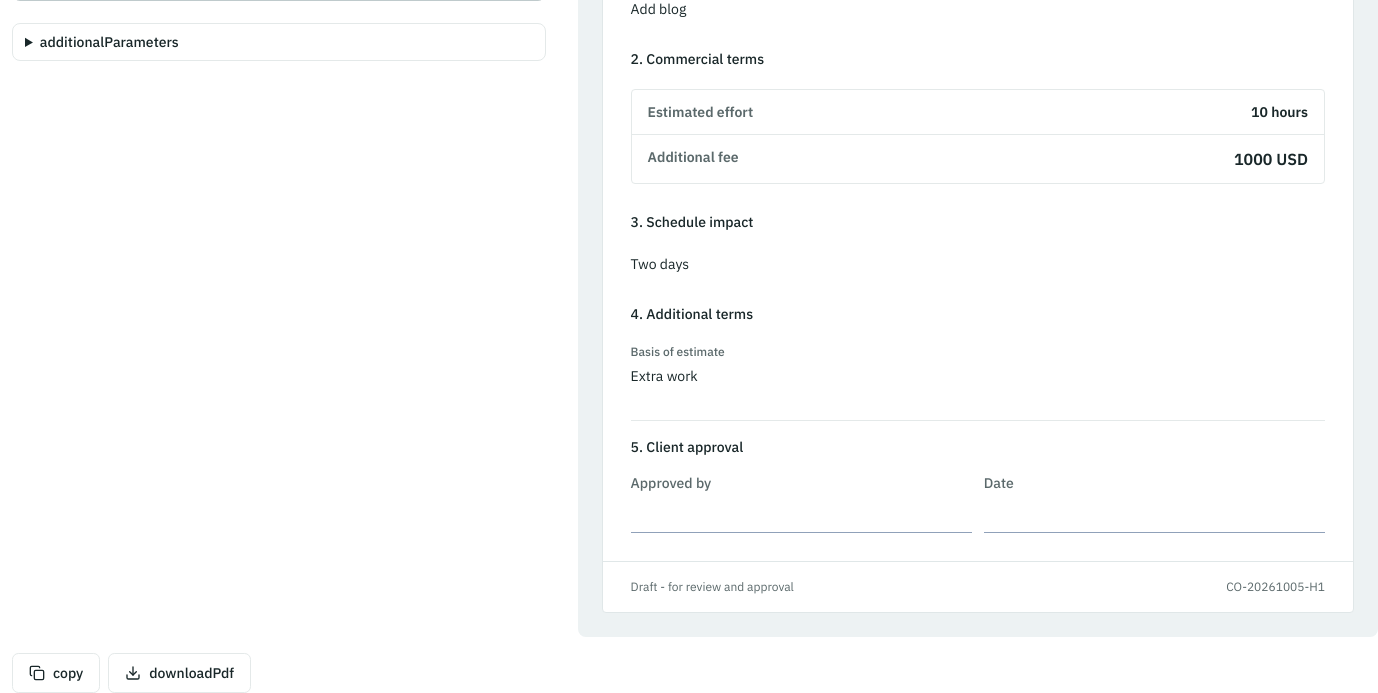
Scenario: shows localized feedback instead of downloading unsupported glyphs
(page scrolled)
Click the button "downloadPdf": (180, 672) [108,652,251,692]
(page scrolled)
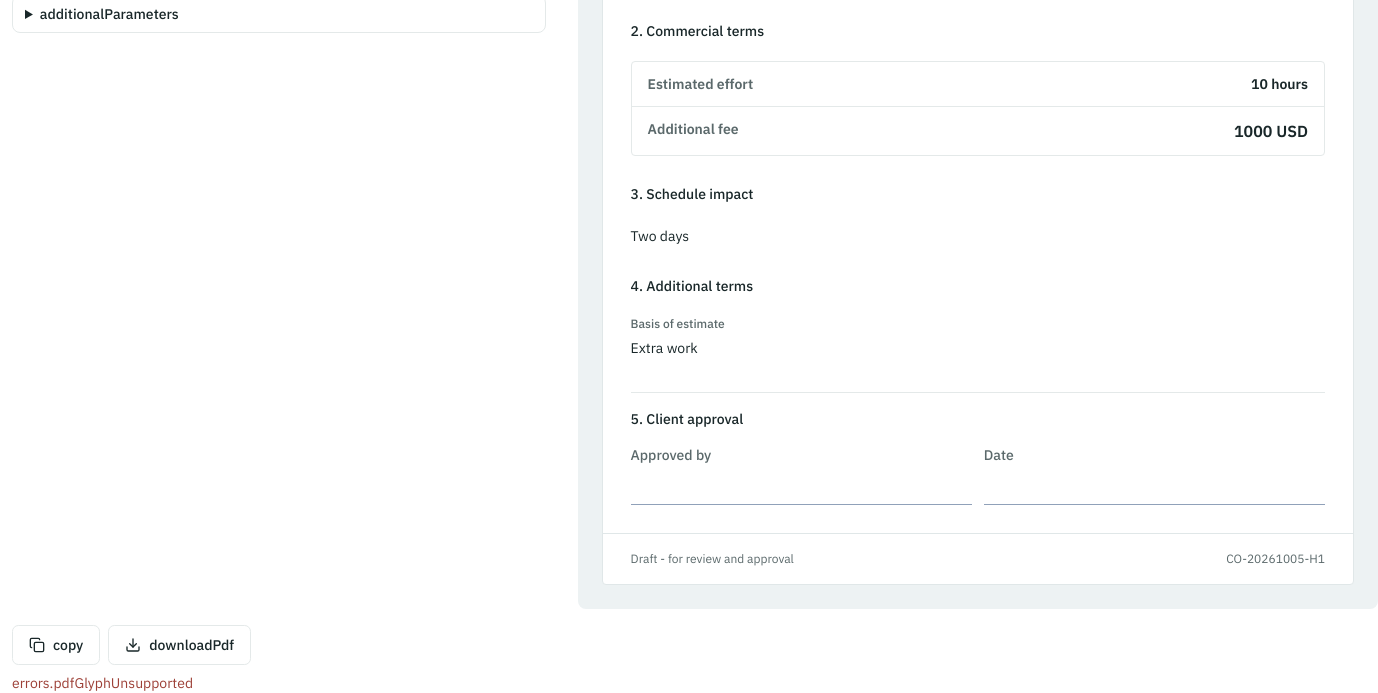
Now the text "errors.pdfGlyphUnsupported" is shown, box [12,674,193,692]
